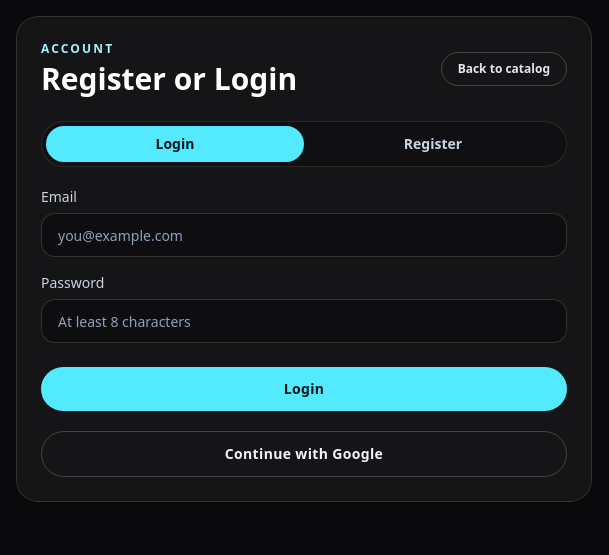
AuthClient › submits login and redirects on success
Type "user@example.com" into the field with placeholder "you@example.com" at (304,235), box [41,213,567,257]
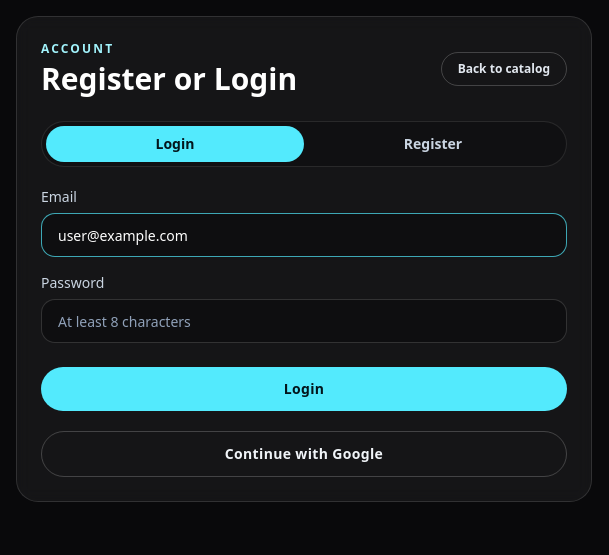
Type "P@ssw0rd!" into the password field with placeholder "At least 8 characters" at (304,321), box [41,299,567,343]
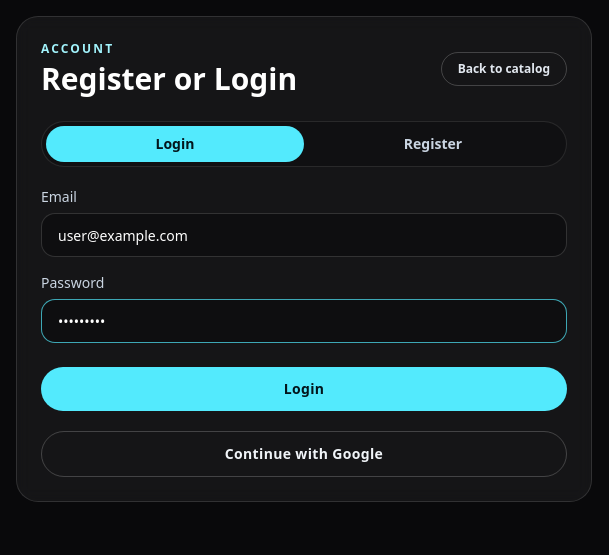
Click the button "Login" below "Password" at (304,389), box [41,367,567,411]
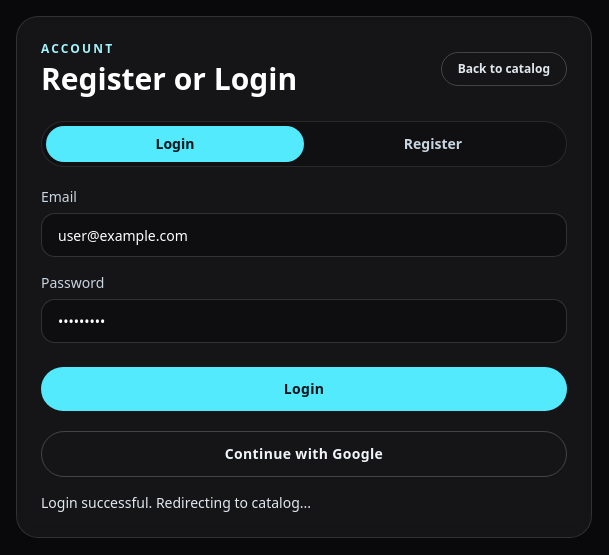
Check: the text "Login successful. Redirecting to catalog..." is shown, box [41,493,311,512]
